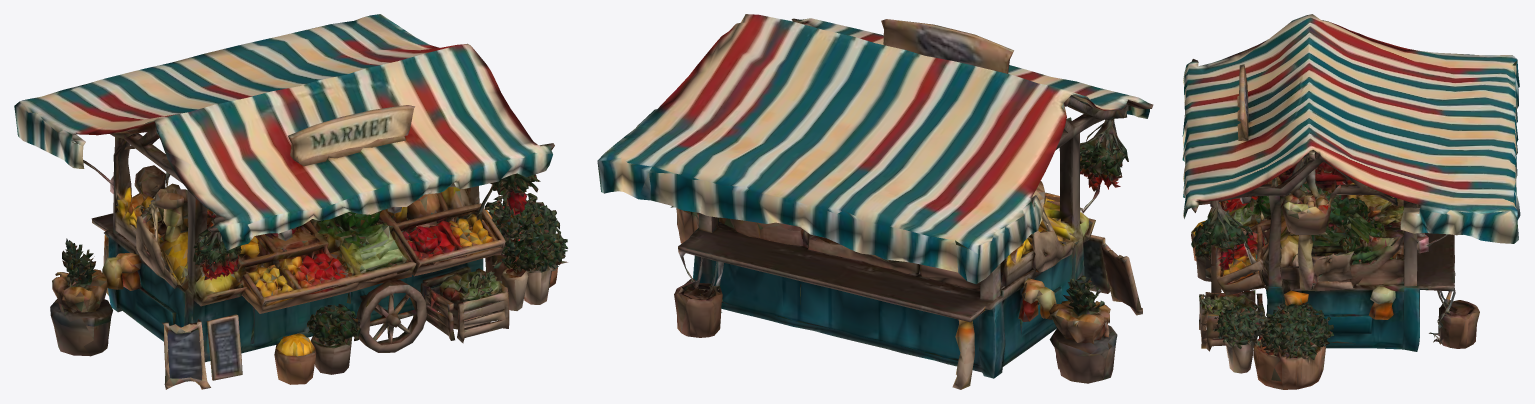
The model's file is Farmers_Market_Cart.glb.
The picture shows the model from 3 angles, left to right: view 1: azimuth 30°, elevation 25°; view 2: azimuth 150°, elevation 25°; view 3: azimuth 270°, elevation 25°; orthographic projection. The views are drawn at different scales.
Parts seen in each view (by area): view 1: Farmers_Market_Cart; view 2: Farmers_Market_Cart; view 3: Farmers_Market_Cart.
Part boxes in pixels (x1,y1,x2,y2): Farmers_Market_Cart: (14,14,567,389); Farmers_Market_Cart: (597,14,1153,389); Farmers_Market_Cart: (1182,14,1520,389).
Bounding box in the file's own units: 1.89 × 0.934 × 1.34.
Materials: 1 (1 with a texture image).
